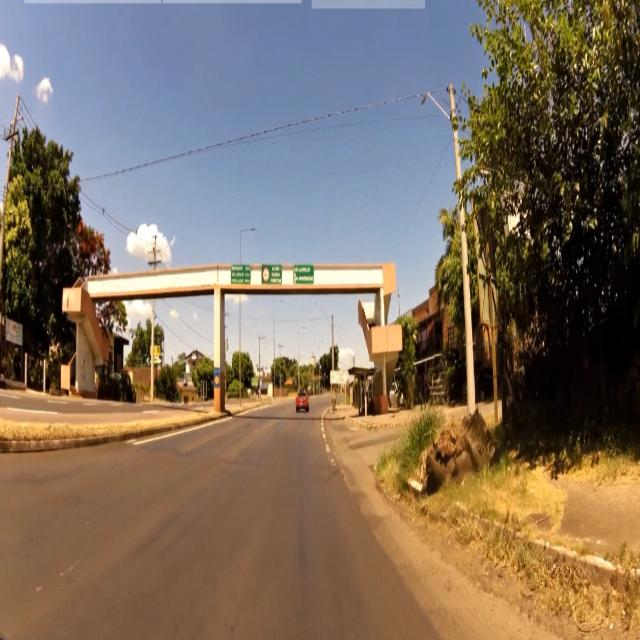I-4: (294, 264, 314, 285)
